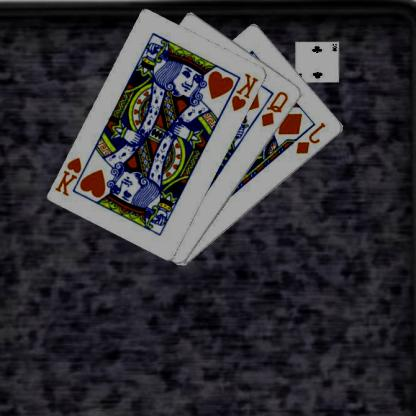JD: (296, 120, 329, 156)
KH: (54, 154, 86, 197), (231, 70, 262, 112)
QD: (260, 88, 292, 128)
